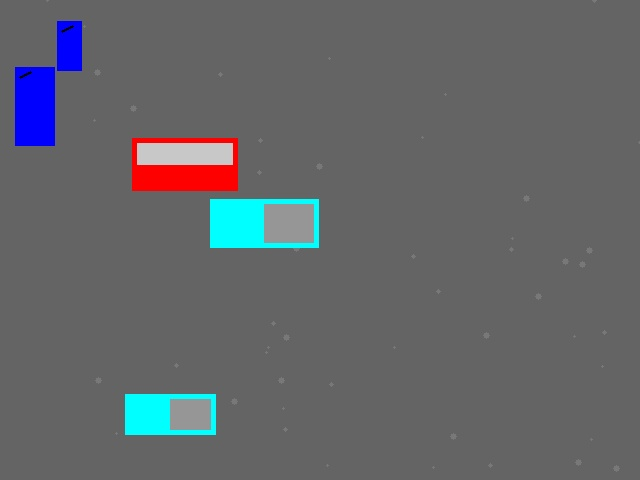car: (132, 138, 237, 190)
motorcycle: (15, 67, 54, 145), (57, 21, 81, 70)
truck: (210, 199, 318, 247), (125, 394, 215, 434)
